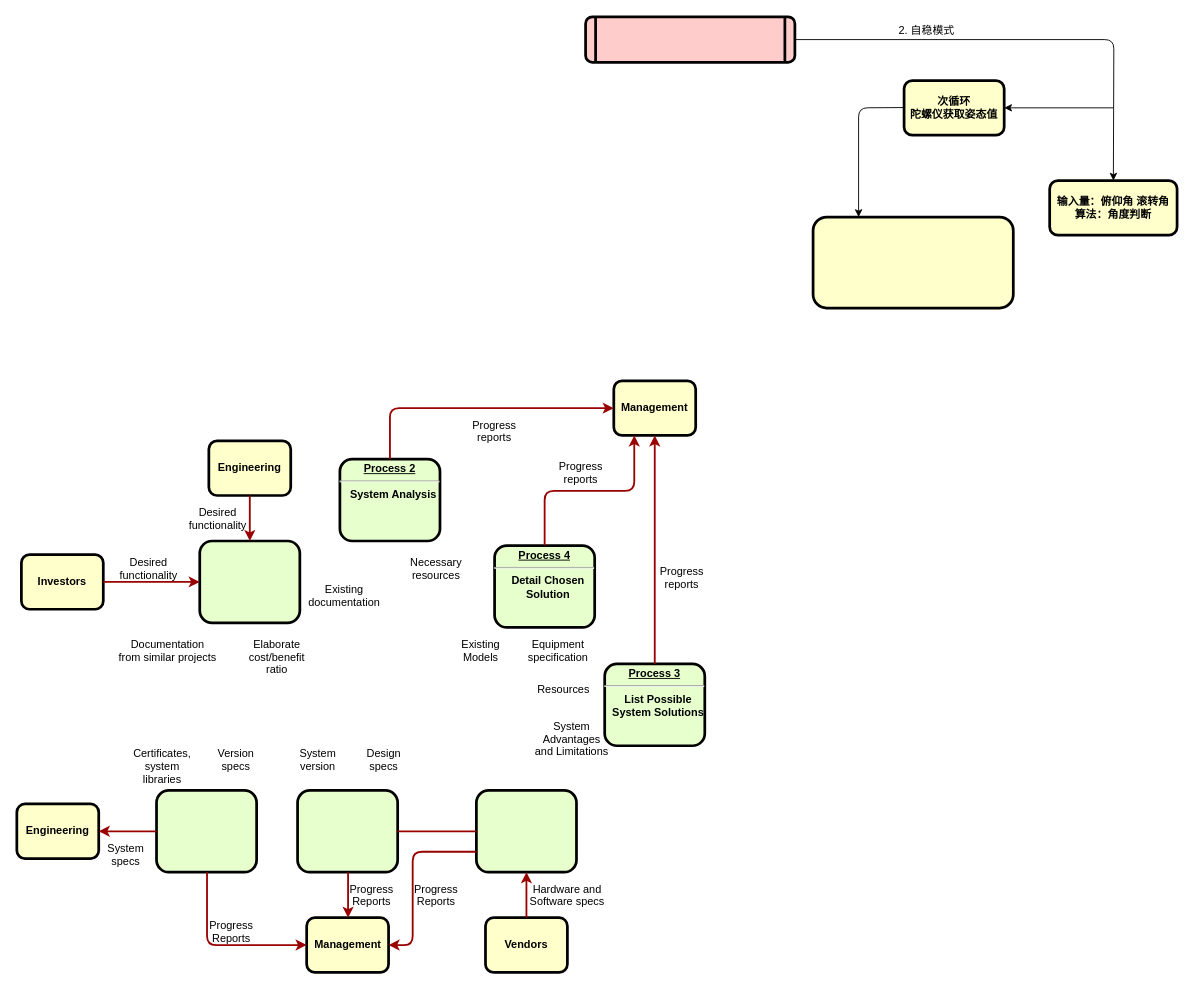
This 1194x989 diagram has some shape labels left out. Here are the shapes that lost their labels. From the top down, the centre of each, then its label:
At (690,39): "控制信号 1. 行走模式：前后左右，前倾后仰侧身 2. 自稳模式".
At (912,262): "输入量：俯仰角 滚转角 机器人长度 机器人宽度 机器人脚间距 机器人当前高度 算法：站立姿态控制 输入量：足端坐标".
At (249,581): "Process 1 System Study Preparation".
At (206,831): "Process 6 New System Construction".
At (347,831): "Process 7 New System Startup and Testing".
At (526,831): "Process 5 New System Design".
